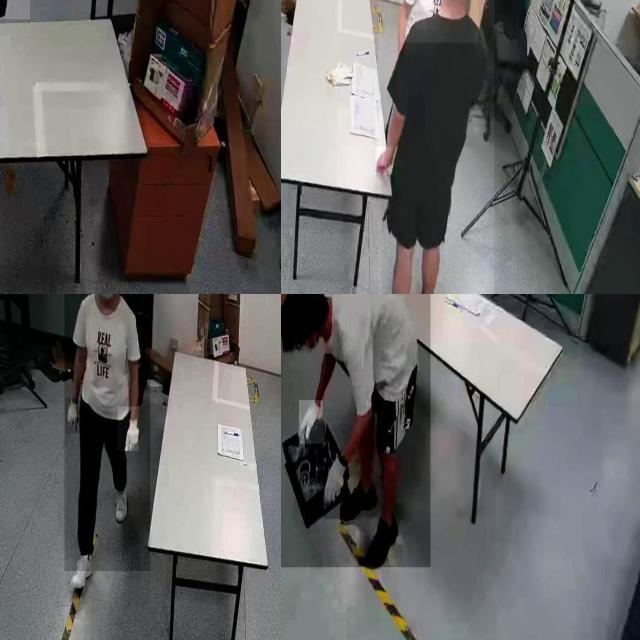face_mask: (89, 294, 122, 308)
hand_glove: (324, 456, 346, 520), (299, 400, 323, 445), (117, 406, 139, 452), (65, 398, 83, 434)
hand_noglove: (375, 147, 393, 175)
head_nohelmet: (281, 294, 302, 350)
person: (281, 294, 431, 568), (378, 0, 495, 294), (64, 294, 151, 571), (399, 0, 478, 42)
shoes: (361, 505, 401, 573), (336, 469, 381, 523), (68, 550, 96, 597), (110, 473, 132, 527), (413, 279, 437, 294)
